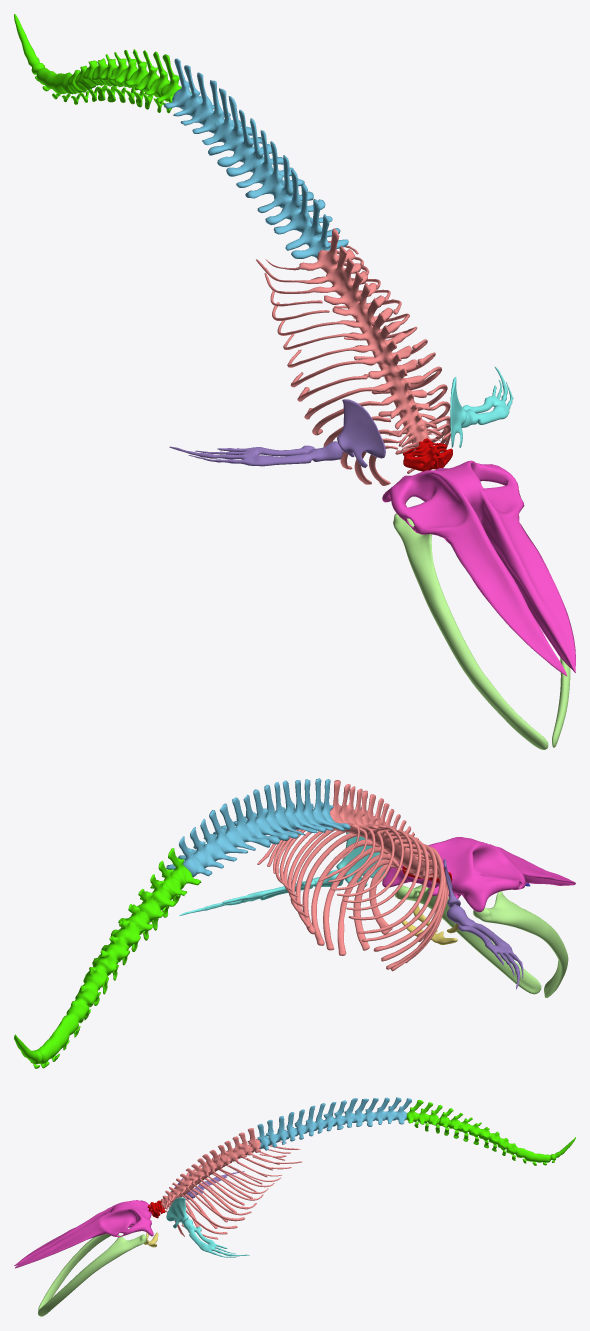
The model's file is WhaleBone.FBX.
3 views of the same model, one above another, from view 1: azimuth 30°, elevation 25°; view 2: azimuth 150°, elevation 25°; view 3: azimuth 270°, elevation 25° (orthographic). The views are drawn at different scales.
Parts seen in each view (by area): view 1: Skull, Ribcage, Spine, Tail, Jaw, Right_flipper, Left_flipper, Cervical; view 2: Ribcage, Spine, Tail, Skull, Jaw, Right_flipper, Left_flipper, Hyoid; view 3: Ribcage, Spine, Skull, Tail, Jaw, Left_flipper.
Part boxes in pixels (bbox=[...]): Skull: bbox=[382, 460, 575, 676]; Ribcage: bbox=[256, 228, 450, 485]; Spine: bbox=[164, 58, 348, 258]; Tail: bbox=[14, 14, 191, 113]; Jaw: bbox=[393, 513, 570, 749]; Right_flipper: bbox=[169, 399, 385, 467]; Left_flipper: bbox=[450, 367, 513, 447]; Cervical: bbox=[403, 438, 452, 471]; Ribcage: bbox=[257, 780, 448, 971]; Spine: bbox=[166, 778, 350, 877]; Tail: bbox=[14, 848, 201, 1068]; Skull: bbox=[382, 837, 575, 912]; Jaw: bbox=[395, 884, 568, 997]; Right_flipper: bbox=[443, 859, 523, 989]; Left_flipper: bbox=[179, 832, 386, 915]; Hyoid: bbox=[402, 905, 459, 944]; Ribcage: bbox=[160, 1128, 301, 1239]; Spine: bbox=[257, 1097, 411, 1150]; Skull: bbox=[14, 1200, 153, 1268]; Tail: bbox=[406, 1099, 575, 1165]; Jaw: bbox=[38, 1227, 146, 1316]; Left_flipper: bbox=[166, 1197, 249, 1257].
Bounding box in the file's own units: 1345 × 1658 × 3904.
